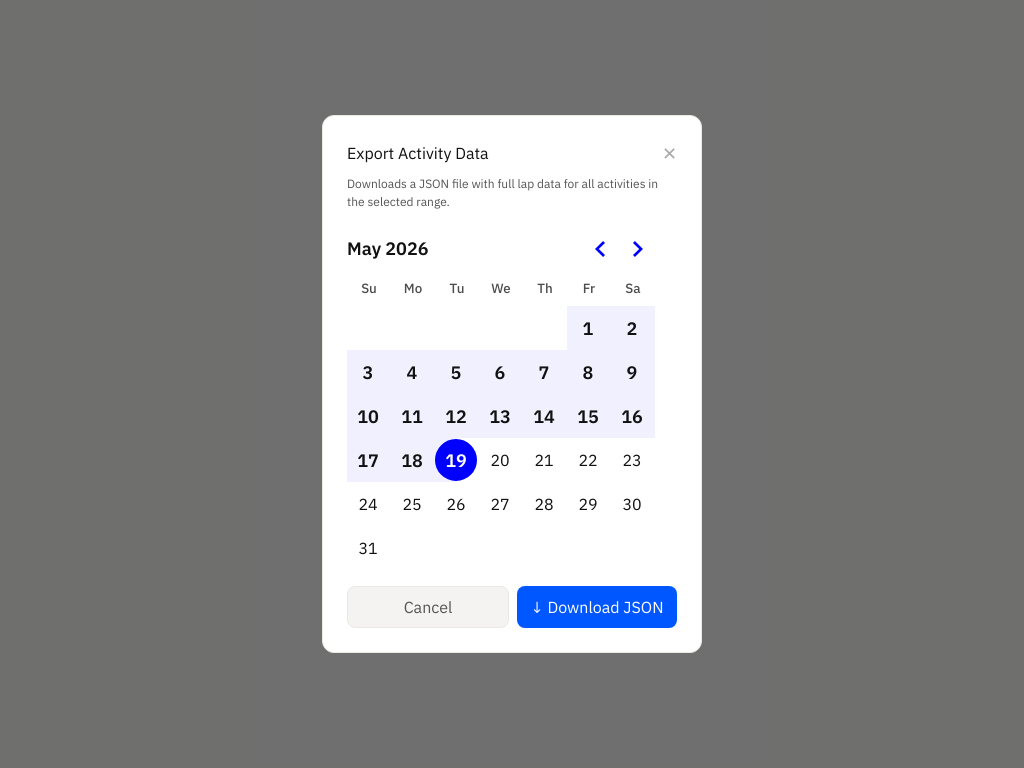
ExportModal › shows loading state while downloading
The image size is (1024, 768).
Click the button "↓ Download JSON": click(597, 608) [517,586,677,628]
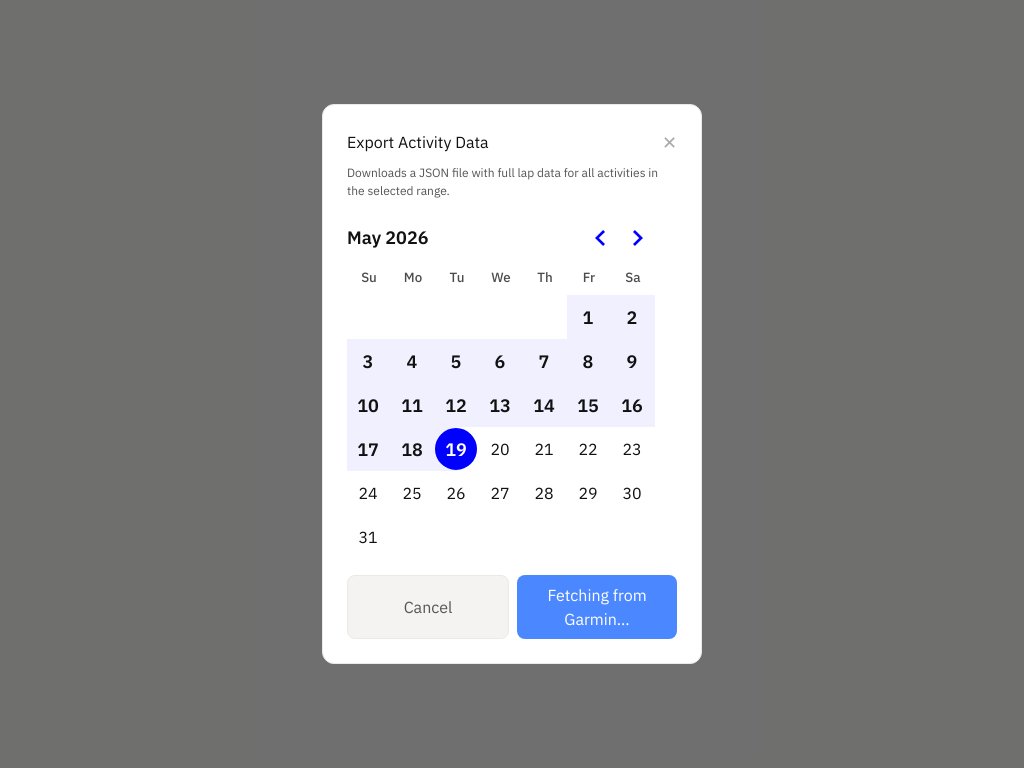
Result: the button "Fetching from Garmin…" is shown at [517,576,677,640]
